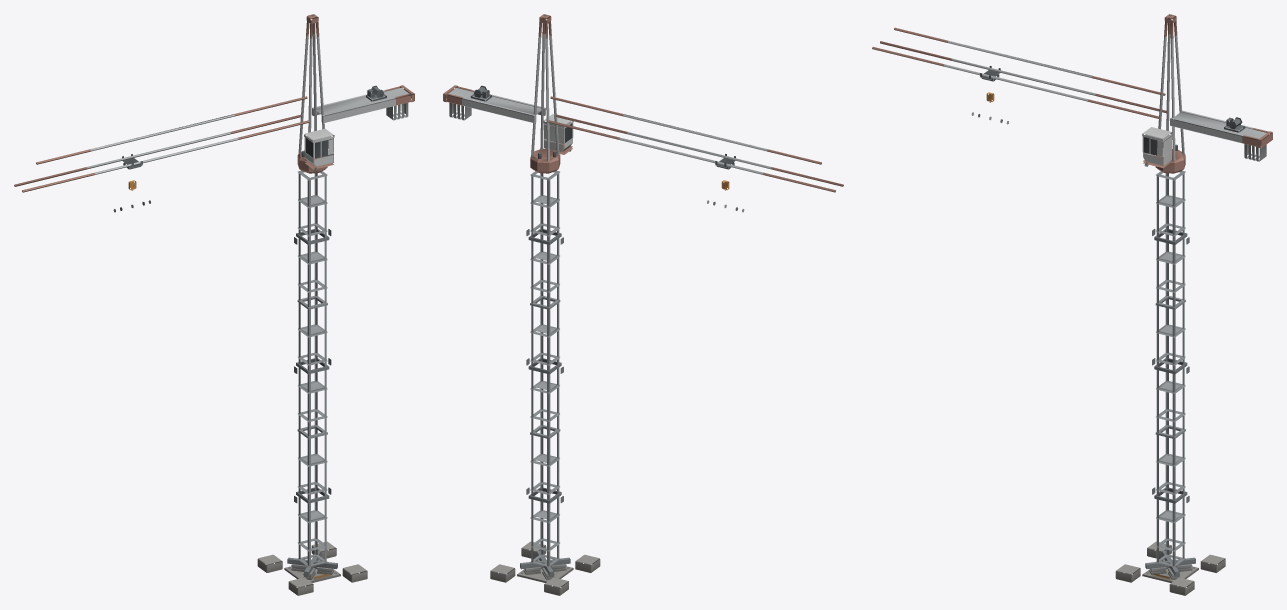
The model's file is crane.lod.glb.
3 views of the same model, side by side, from view 1: azimuth 30°, elevation 25°; view 2: azimuth 150°, elevation 25°; view 3: azimuth 330°, elevation 25° (orthographic).
Parts seen in each view (by area): view 1: crane; view 2: crane; view 3: crane.
Part boxes in pixels (x1,y1,x2,y2): crane: (14, 14, 414, 595); crane: (443, 14, 843, 595); crane: (872, 14, 1272, 595).
Size of the model in its own units: 43.47 by 59.26 by 7.8.
